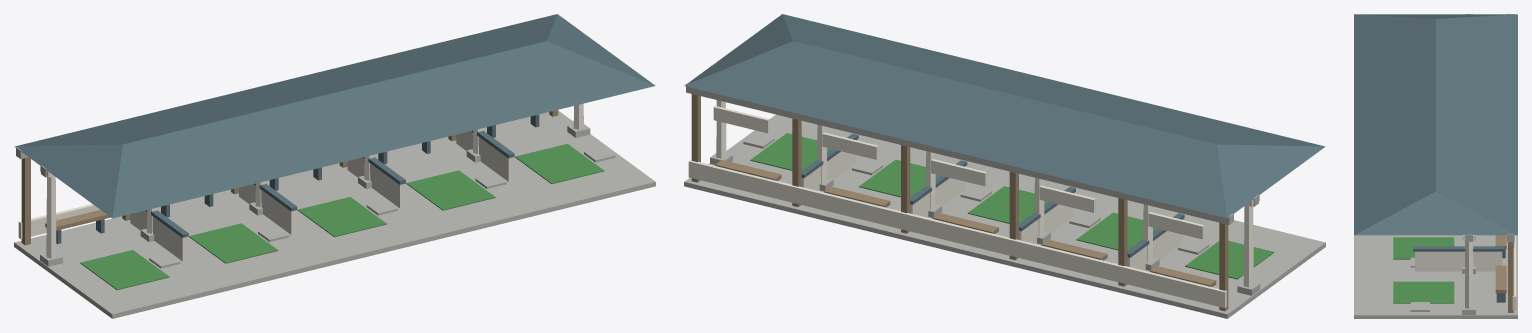
Rendered from range_shelter_02.glb.
3 views of the same model, side by side, from view 1: azimuth 30°, elevation 25°; view 2: azimuth 150°, elevation 25°; view 3: azimuth 270°, elevation 25° (orthographic). The views are drawn at different scales.
Visible parts, largest first — view 1: Range_shelter_02; view 2: Range_shelter_02; view 3: Range_shelter_02.
Part boxes in pixels (x1,y1,x2,y2): Range_shelter_02: (14, 14, 655, 318); Range_shelter_02: (684, 14, 1325, 318); Range_shelter_02: (1354, 14, 1517, 318).
Bounding box in the file's own units: 15 × 3.27 × 4.7.
